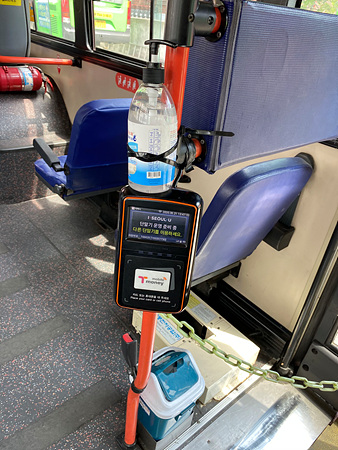terminal: (119, 181, 194, 314)
